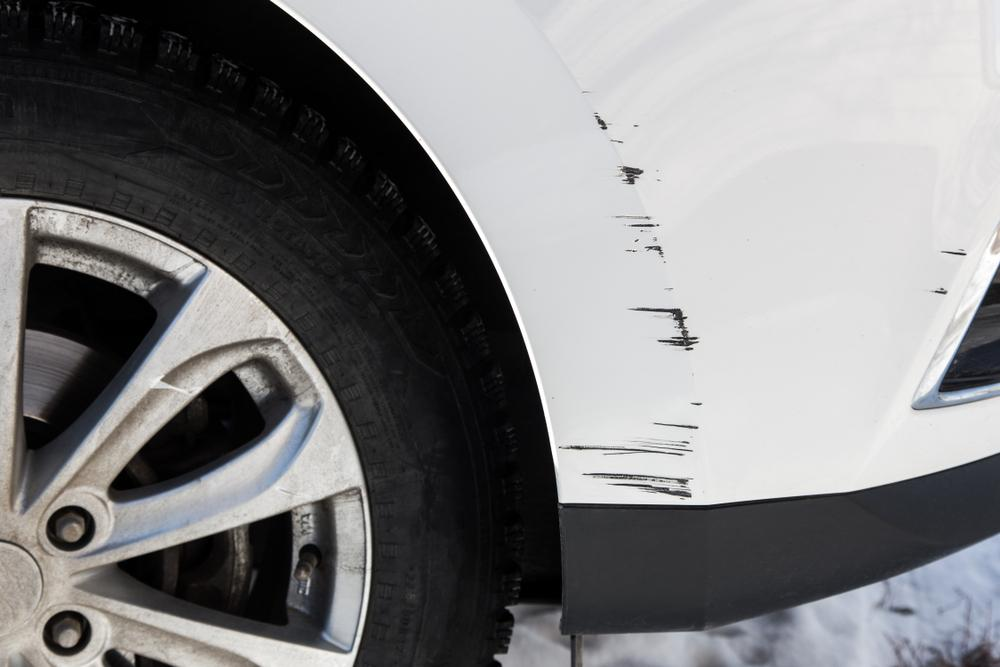scratch: (557, 88, 713, 507), (930, 243, 968, 299)
